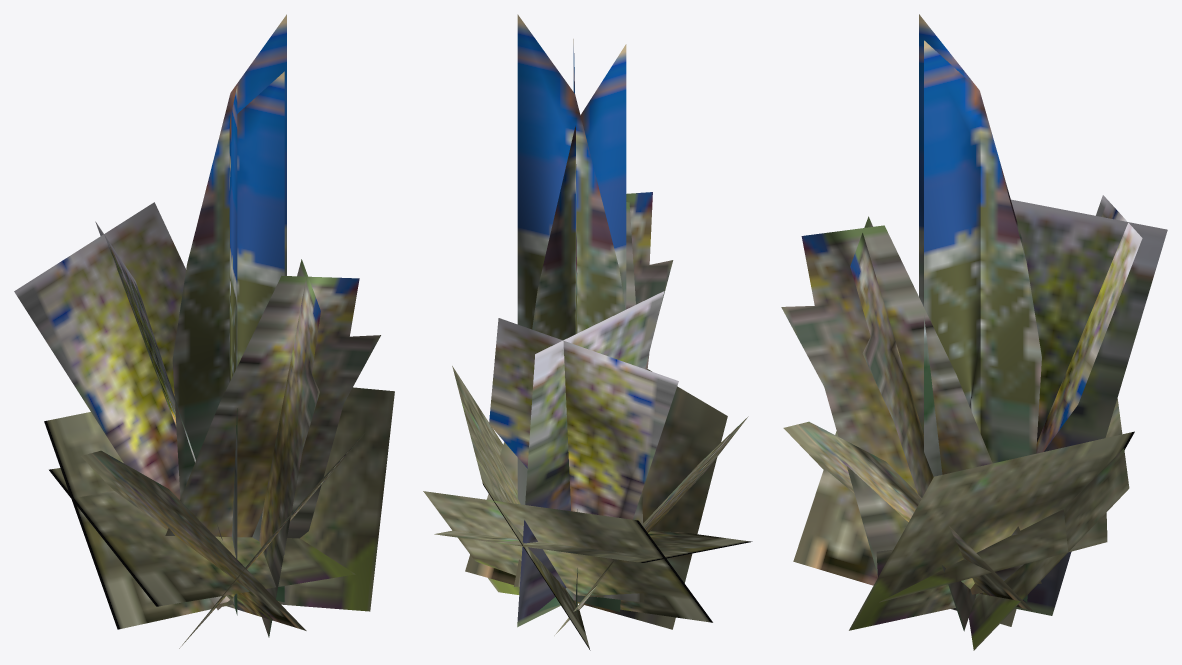
Rendered from SM_Weed_03.fbx.
3 renders of one model, left to right at view 1: azimuth 30°, elevation 25°; view 2: azimuth 150°, elevation 25°; view 3: azimuth 270°, elevation 25°, orthographic. The views are drawn at different scales.
Visible parts, largest first — view 1: Weed_03; view 2: Weed_03; view 3: Weed_03.
Boxes of the visible parts, x1=… form: Weed_03: x1=14, y1=14, x2=394, y2=648; Weed_03: x1=423, y1=14, x2=752, y2=650; Weed_03: x1=781, y1=14, x2=1167, y2=650.
Bounding box in the file's own units: 92.39 × 95.61 × 172.
